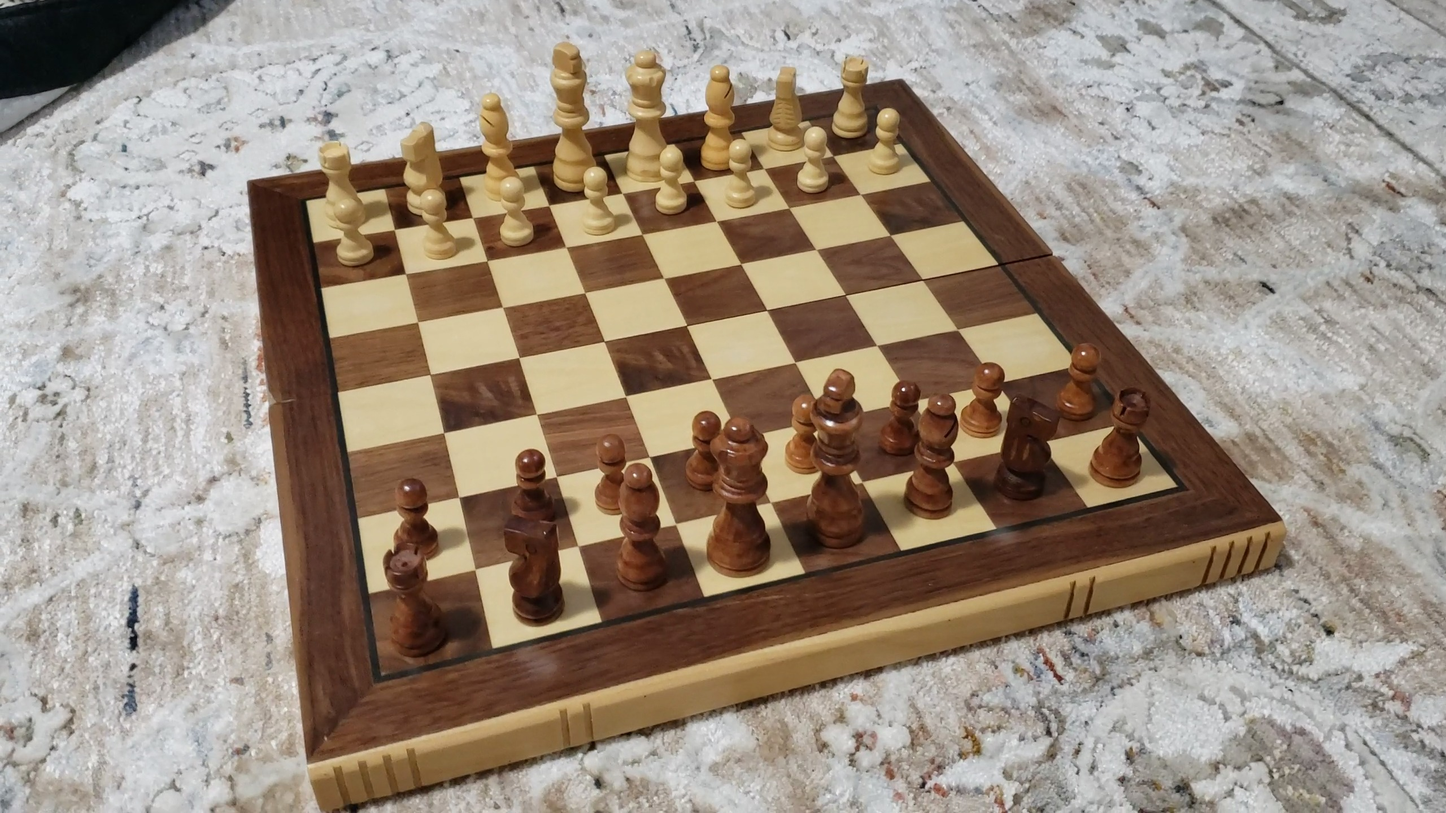black-bishop: (615, 460, 668, 593), (905, 392, 960, 519)
black-king: (797, 360, 884, 559)
black-knight: (500, 509, 566, 626), (991, 395, 1059, 501)
black-pawn: (390, 475, 443, 563), (1055, 338, 1105, 423), (960, 360, 1007, 438), (683, 408, 724, 492), (880, 377, 923, 457), (785, 390, 822, 474), (511, 445, 552, 519), (593, 432, 629, 514)
black-queen: (702, 414, 775, 578)
black-rook: (380, 542, 450, 661), (1090, 388, 1152, 488)
white-bishop: (474, 89, 518, 202), (698, 61, 738, 172)
white-king: (547, 37, 594, 195)
white-knight: (394, 114, 450, 213), (764, 67, 812, 151)
white-pawn: (404, 185, 465, 265), (324, 193, 381, 274), (487, 169, 538, 252), (573, 163, 622, 242), (648, 141, 696, 221), (717, 133, 763, 213), (862, 104, 910, 180), (790, 121, 836, 199)
white-queen: (624, 44, 669, 181)
white-rook: (314, 137, 371, 229), (831, 50, 872, 142)
